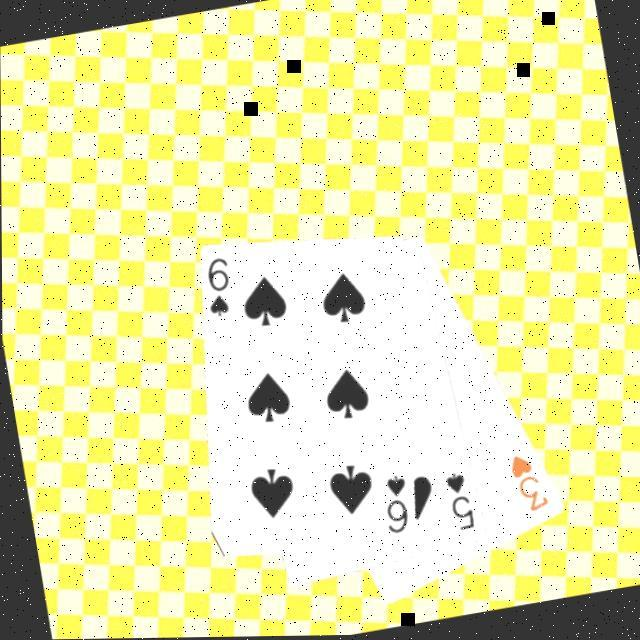3H: (503, 451, 551, 522)
5S: (439, 470, 477, 538)
6S: (374, 473, 414, 541), (197, 256, 237, 324)
